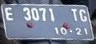plate: (1, 3, 95, 42)
